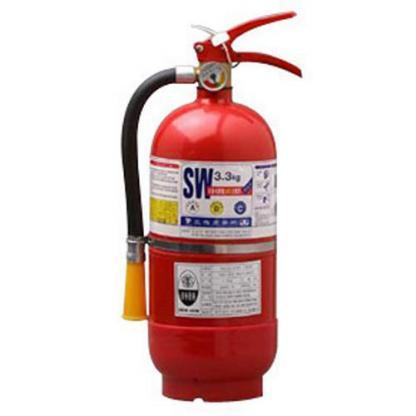Fire Extinguisher: (101, 11, 323, 406)
